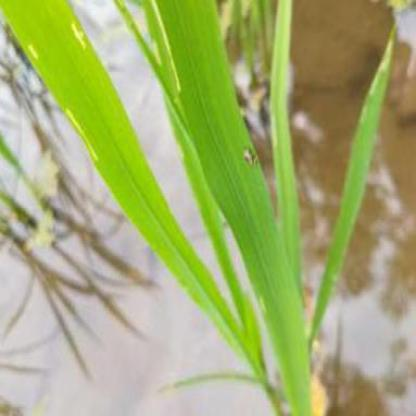rice-bug: (242, 151, 260, 168)
